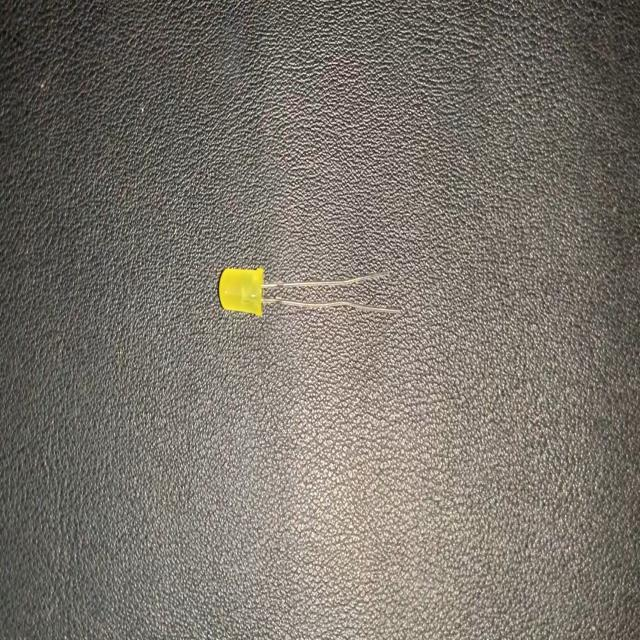LED: (215, 261, 402, 319)
